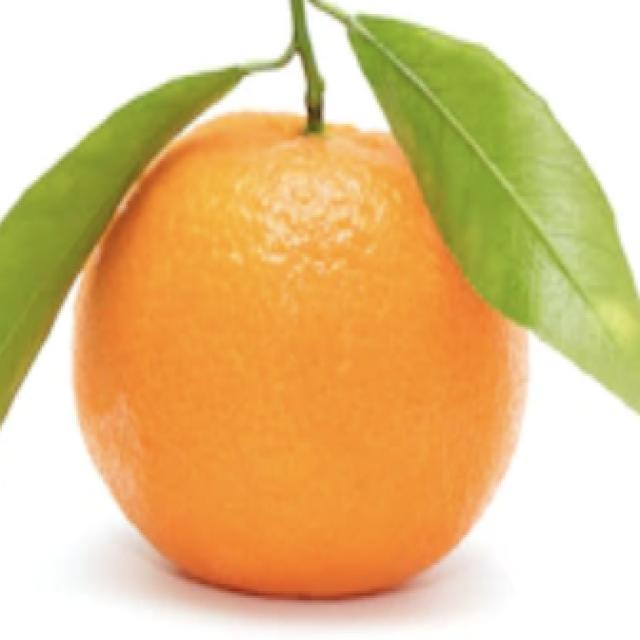Orange: (71, 109, 531, 600)
